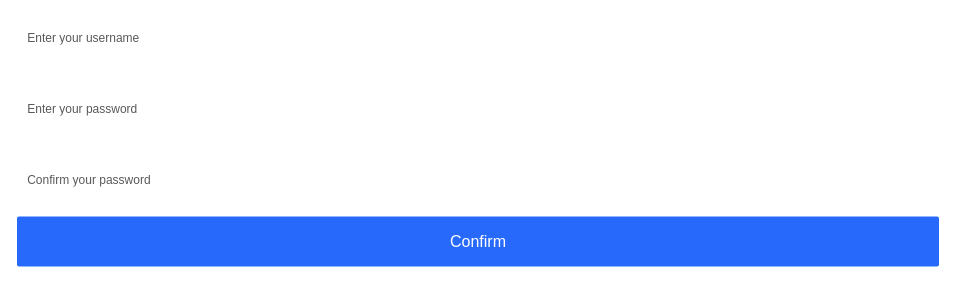
resetpw › username noexist
Type "hi" into the field labelled "username" at (478, 36), box [17,16,939,56]
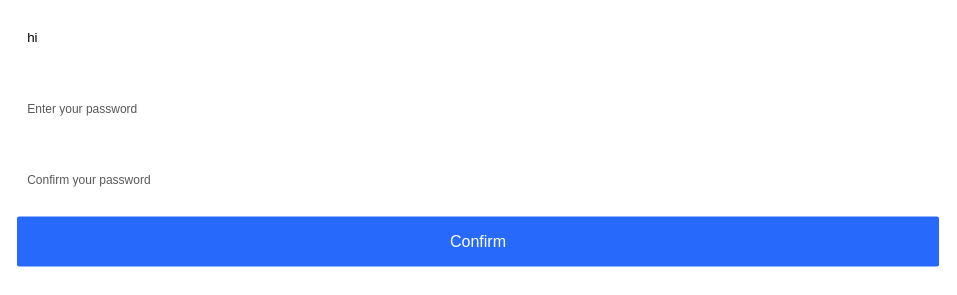
Type "hihihi" into the password field named "newpassword" at (478, 108), box [17,88,939,128]
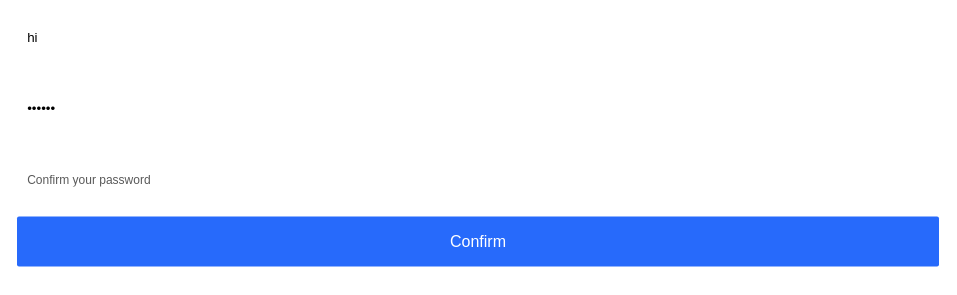
Type "hihihi" into the password field named "confirmnewpassword" at (478, 178), box [17,158,939,198]
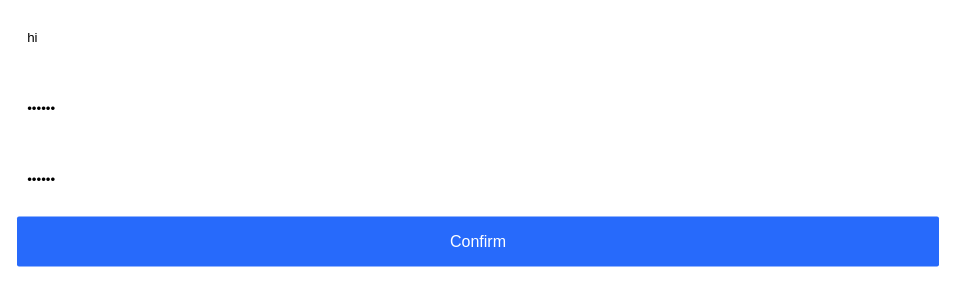
Click the button "Confirm" at (478, 242), box [17,216,939,266]
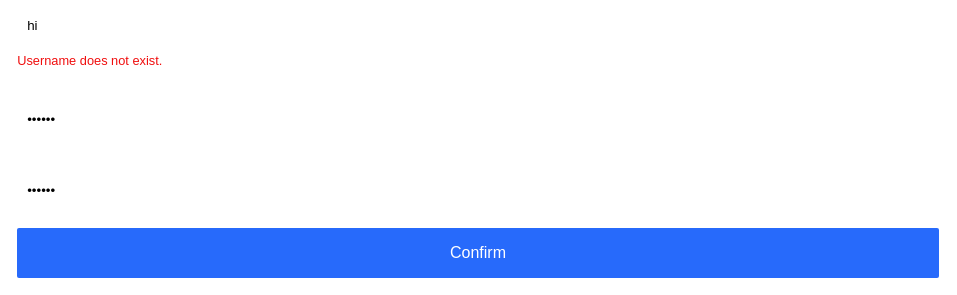
Expected: the text named "noexist-username" reads "Username does not exist.", [17,53,162,68]
